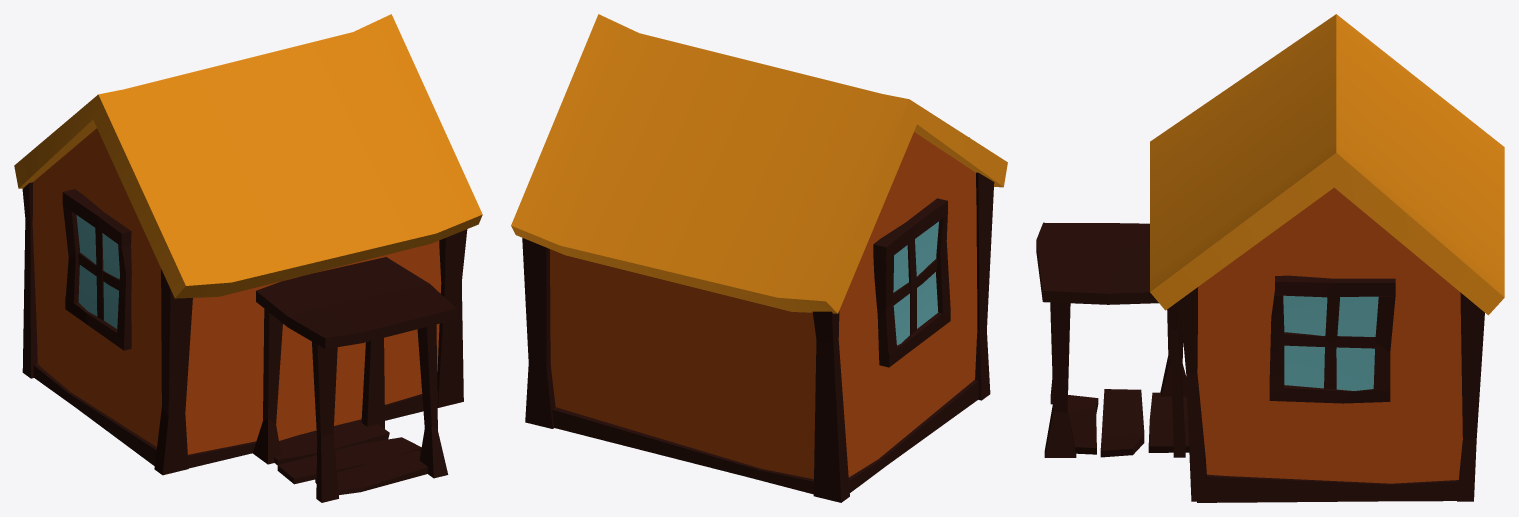
The model's file is hut.FBX.
3 renders of one model, left to right at view 1: azimuth 30°, elevation 25°; view 2: azimuth 150°, elevation 25°; view 3: azimuth 270°, elevation 25°, orthographic. The views are drawn at different scales.
Visible parts, largest first — view 1: Line001, Box001, Box010, Box004, Box003, Box013, Box014, Box012, Plane001, Box016, Box017, Box005 (+9 smaller); view 2: Line001, Box001, Box005, Box002, Box008, Box004, Plane001, Box007, Box019, Box020, Box021, Box018 (+1 smaller); view 3: Line001, Box001, Box010, Plane002, Box006, Box002, Box003, Box014, Box016, Box026, Box011, Box027 (+7 smaller).
Boxes of the visible parts, x1,y1,x2,y2 form: Line001: (14, 14, 482, 298); Box001: (32, 128, 441, 454); Box010: (256, 257, 456, 349); Box004: (154, 269, 192, 475); Box003: (437, 229, 467, 407); Box013: (312, 342, 338, 502); Box014: (417, 324, 448, 478); Box012: (252, 309, 282, 464); Plane001: (76, 215, 119, 328); Box016: (277, 437, 421, 484); Box017: (315, 450, 427, 494); Box005: (22, 182, 37, 378); Line001: (511, 14, 1007, 313); Box001: (550, 132, 977, 478); Box005: (812, 311, 849, 502); Box002: (522, 238, 555, 428); Box008: (552, 407, 813, 494); Box004: (975, 172, 994, 400); Plane001: (893, 221, 938, 345); Box007: (848, 380, 978, 492); Box019: (873, 255, 897, 355); Box020: (873, 198, 947, 261); Box021: (879, 307, 950, 367); Box018: (936, 215, 950, 315); Line001: (1150, 14, 1504, 315); Box001: (1197, 187, 1462, 483); Box010: (1036, 222, 1179, 304); Plane002: (1283, 295, 1378, 390); Box006: (1197, 474, 1458, 502); Box002: (1457, 292, 1484, 501); Box003: (1179, 287, 1208, 501); Box014: (1044, 302, 1076, 457); Box016: (1100, 389, 1144, 457); Box026: (1275, 275, 1395, 297); Box011: (1167, 302, 1185, 457); Box027: (1269, 385, 1390, 403).
Size of the model in its own units: 82.51 by 87.59 by 106.
